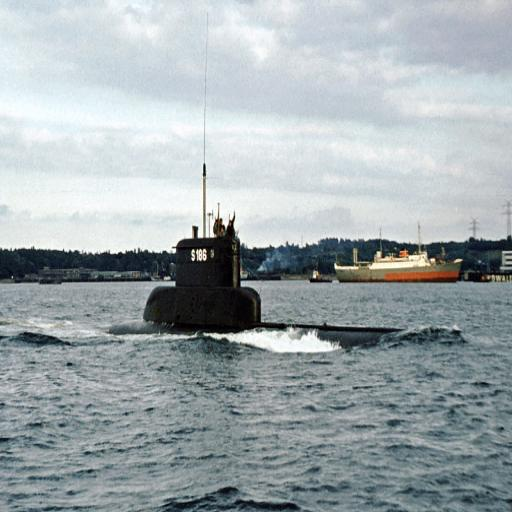submarine: (109, 239, 413, 348)
